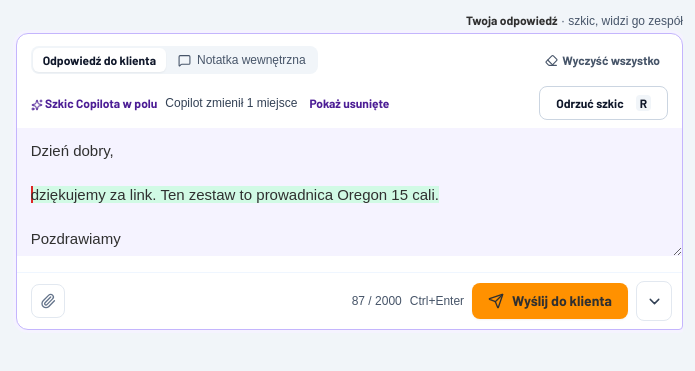
poprawka Copilota w polu › pasek nad polem mówi, ile miejsc ruszył Copilot, a „Pokaż usunięte” rozwija skreślenia
Expected: the text "Copilot zmienił 1 miejsce" is shown, [165, 95, 297, 111]
Step 1. Click the button "Pokaż usunięte" → coordinates (349, 103), box [305, 91, 393, 115]
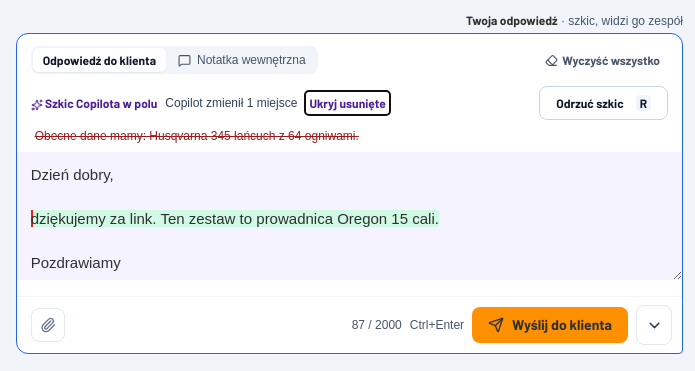
Expected: the element showing "Obecne dane mamy: Husqvarna 345 łańcuch z 64 ogniwami." is shown, [35, 129, 359, 143]
Expected: the button "Ukryj usunięte" is expanded, [305, 91, 390, 115]
